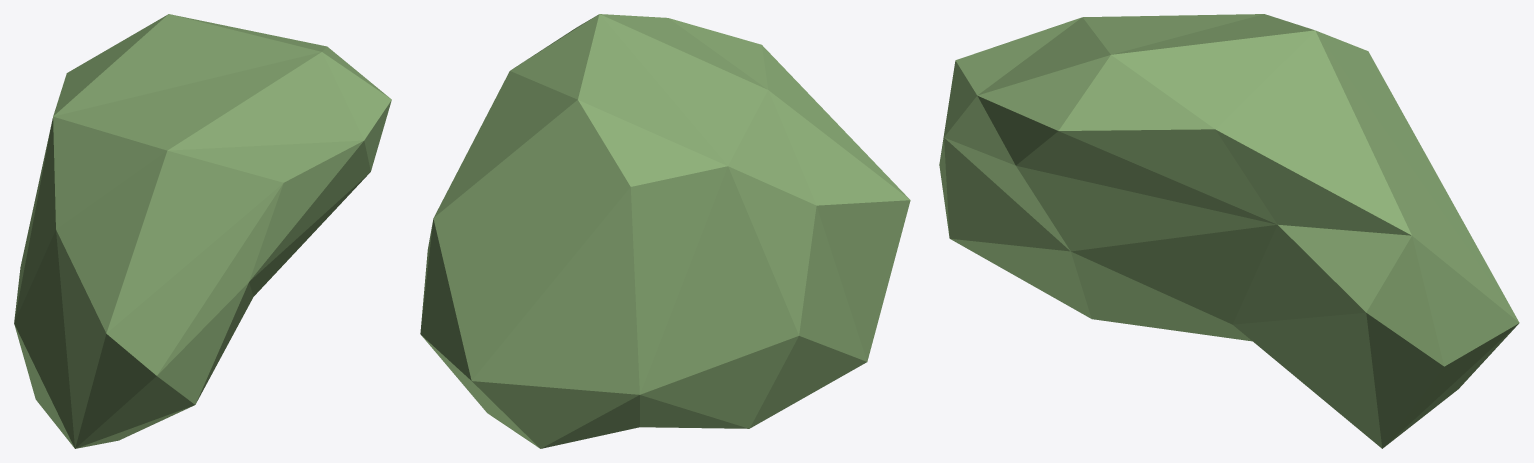
The model's file is Rock_C_003.fbx.
The picture shows the model from 3 angles, left to right: view 1: azimuth 30°, elevation 25°; view 2: azimuth 150°, elevation 25°; view 3: azimuth 270°, elevation 25°; orthographic projection. The views are drawn at different scales.
Parts seen in each view (by area): view 1: Rock C.003; view 2: Rock C.003; view 3: Rock C.003.
Part boxes in pixels (box(x1,y1,x2,y2)): Rock C.003: box(14, 14, 391, 448); Rock C.003: box(420, 14, 910, 448); Rock C.003: box(939, 14, 1519, 448).
Bounding box in the file's own units: 31.65 × 29.76 × 39.73.
